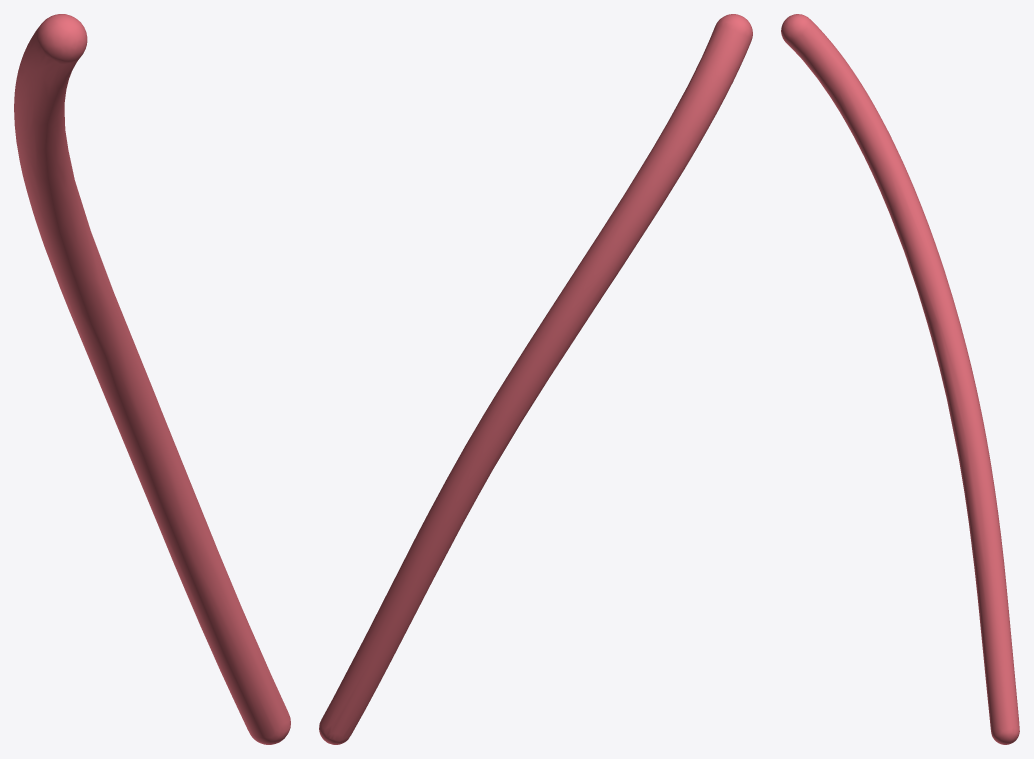
File: fma22697_fj2225.glb
3 renders of one model, left to right at view 1: azimuth 30°, elevation 25°; view 2: azimuth 150°, elevation 25°; view 3: azimuth 270°, elevation 25°, orthographic. The views are drawn at different scales.
Parts seen in each view (by area): view 1: FMA22697_FJ2225; view 2: FMA22697_FJ2225; view 3: FMA22697_FJ2225.
Part boxes in pixels (bbox=[...]): FMA22697_FJ2225: bbox=[14, 14, 290, 744]; FMA22697_FJ2225: bbox=[319, 14, 752, 744]; FMA22697_FJ2225: bbox=[781, 14, 1019, 744].
Size of the model in its own units: 0.0317 by 0.0693 by 0.0246.
